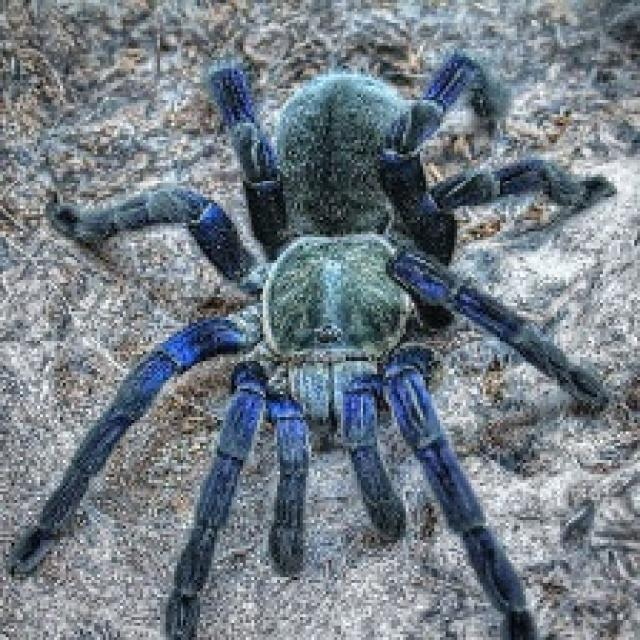Venomous spider: (23, 33, 640, 640)
